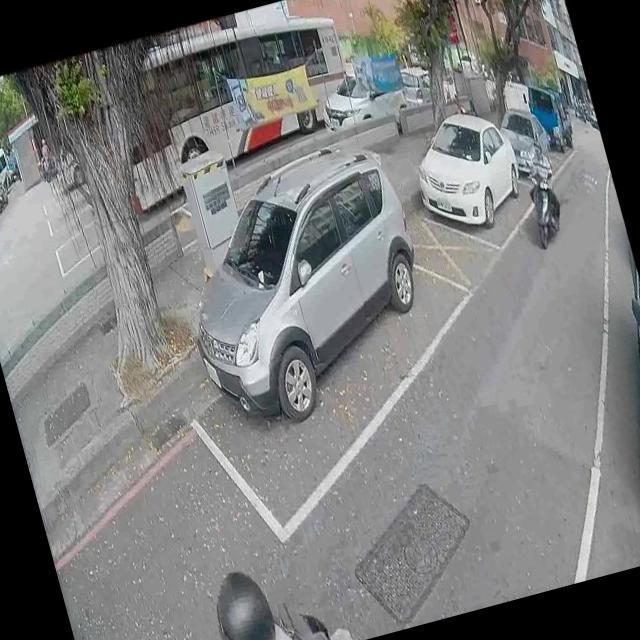person: (179, 552, 305, 640), (513, 134, 567, 239), (34, 132, 56, 179)
